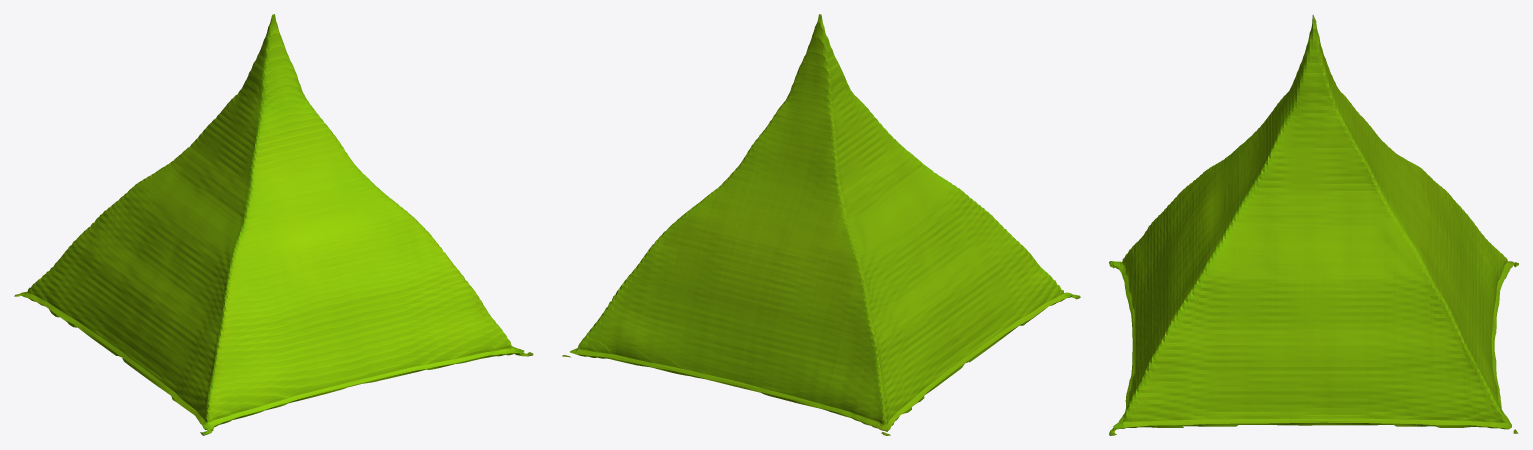
Rendered from tmpd_zm5tgu.glb.
3 renders of one model, left to right at view 1: azimuth 30°, elevation 25°; view 2: azimuth 150°, elevation 25°; view 3: azimuth 270°, elevation 25°, orthographic. The views are drawn at different scales.
Visible parts, largest first — view 1: tmp7g2u6v2g.ply; view 2: tmp7g2u6v2g.ply; view 3: tmp7g2u6v2g.ply.
Part boxes in pixels (x1,y1,x2,y2): tmp7g2u6v2g.ply: (14, 14, 533, 435); tmp7g2u6v2g.ply: (562, 14, 1080, 435); tmp7g2u6v2g.ply: (1109, 14, 1518, 435).
Bounding box in the file's own units: 1.98 × 1.78 × 1.98.
